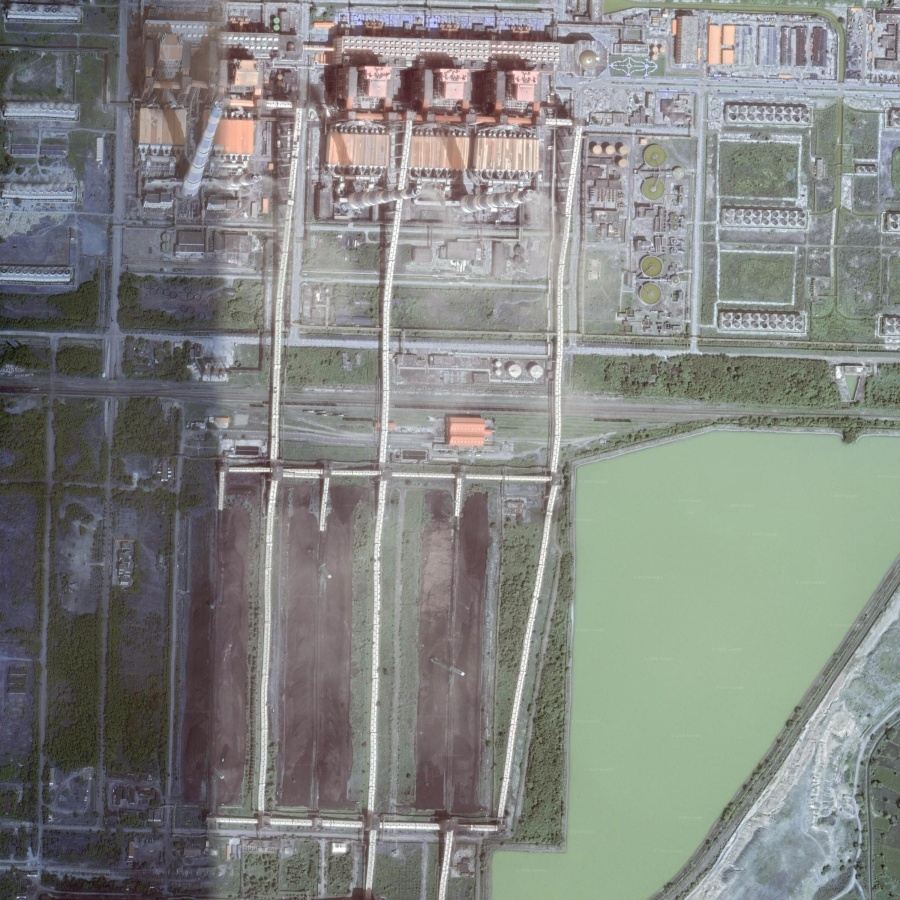PowerPlant: (172, 449, 531, 844)
